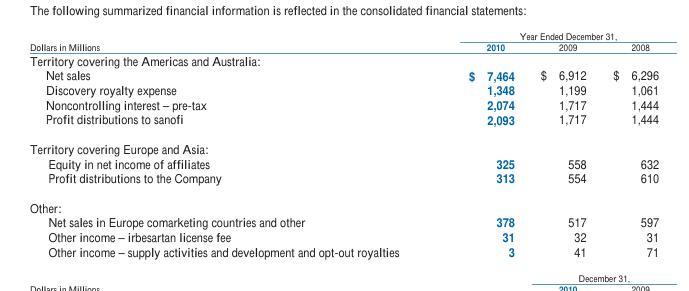table: (28, 28, 658, 259)
table column: (28, 28, 433, 259), (433, 28, 526, 259), (526, 28, 598, 259), (598, 28, 658, 259)
table column header: (28, 28, 658, 52)
table projected row header: (28, 133, 658, 155), (28, 192, 658, 214), (28, 52, 658, 67)
table row: (28, 111, 658, 133), (28, 133, 658, 155), (28, 170, 658, 192), (28, 192, 658, 214), (28, 243, 658, 259), (28, 52, 658, 67), (28, 67, 658, 82), (28, 96, 658, 111), (28, 155, 658, 170), (28, 214, 658, 229), (28, 82, 658, 96), (28, 229, 658, 243), (28, 28, 658, 40), (28, 40, 658, 52)
table spanning cell: (28, 28, 433, 52), (433, 28, 658, 40)
